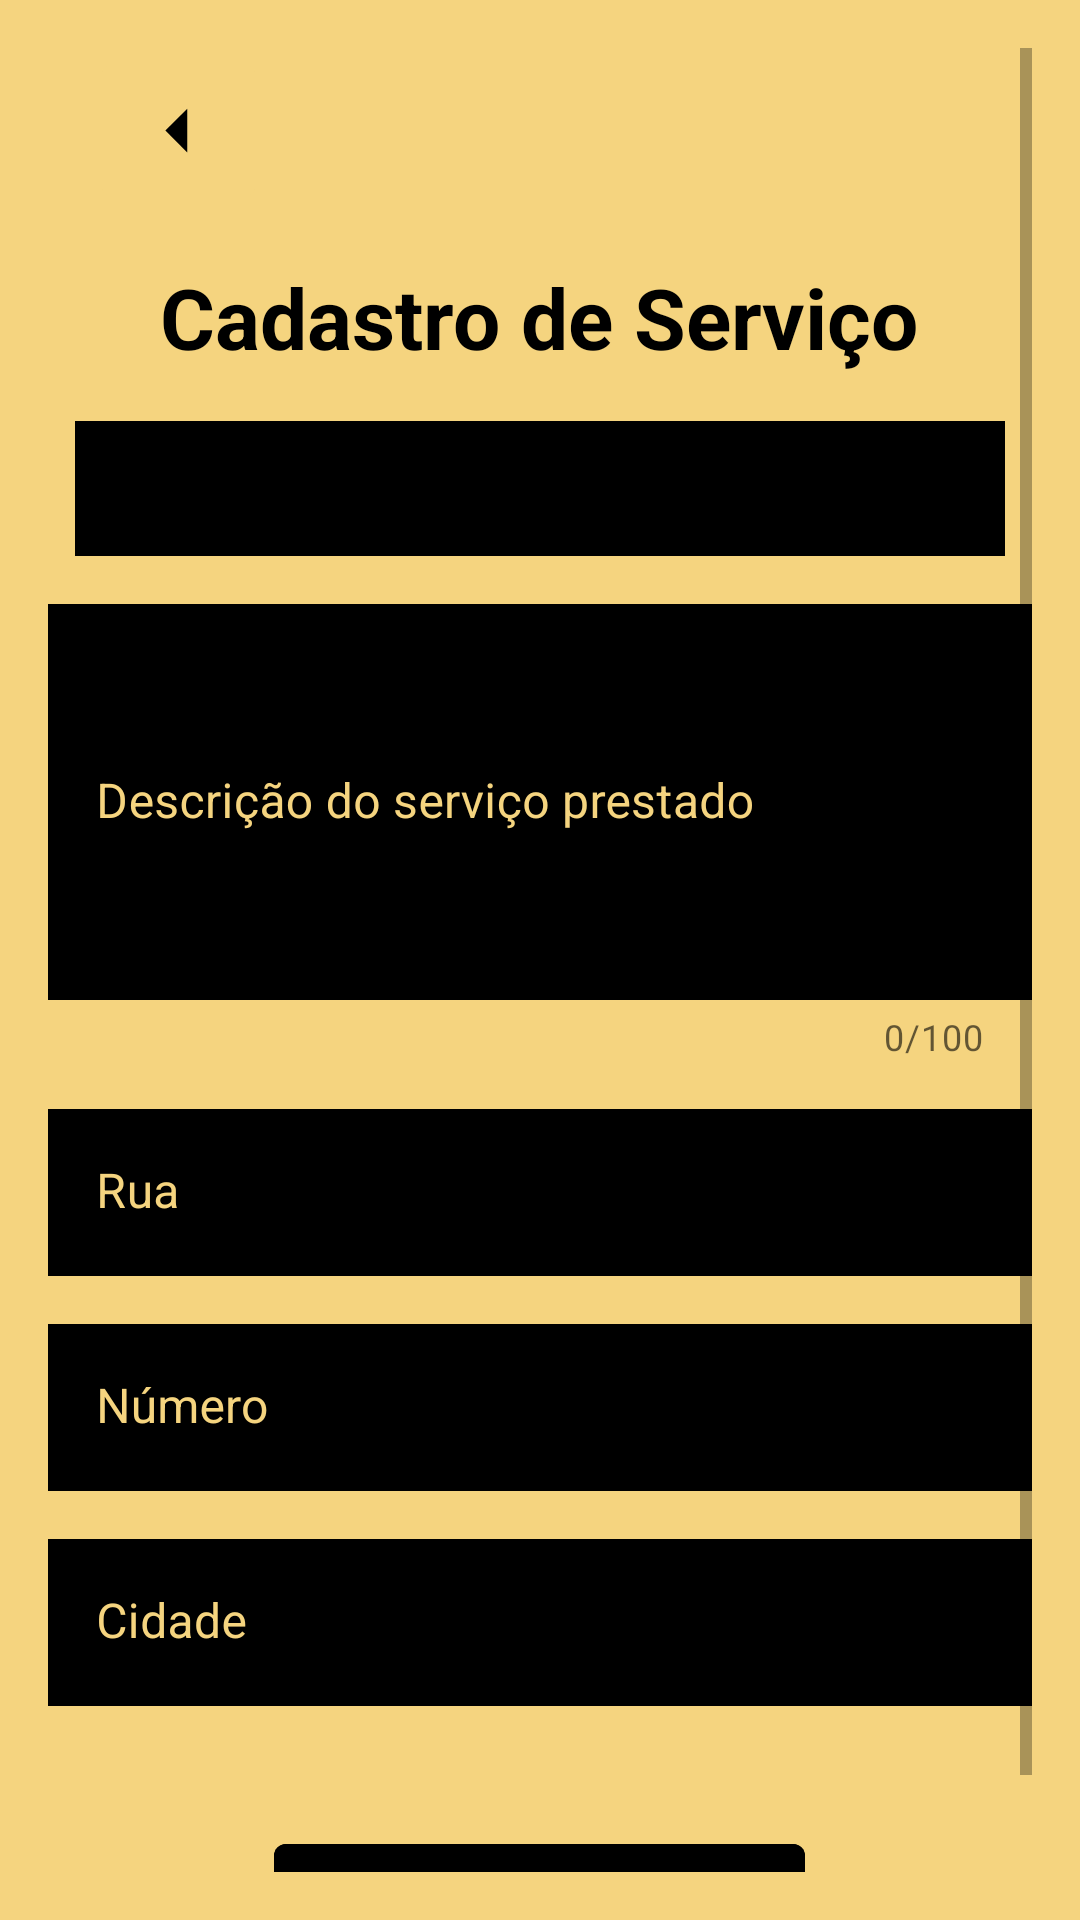

Locate icon controls on the screen. Image size 1080x1920, boxes as (x1, y1, x2, y2).
left: (165, 109, 188, 152)
